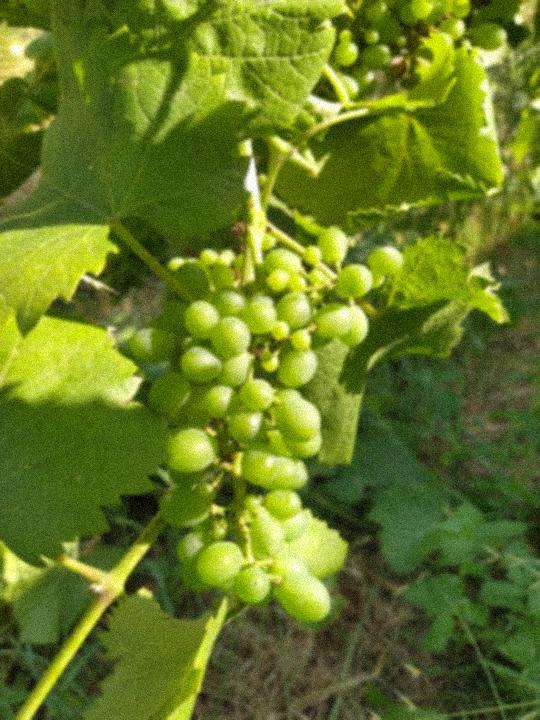grape: (121, 221, 408, 624)
